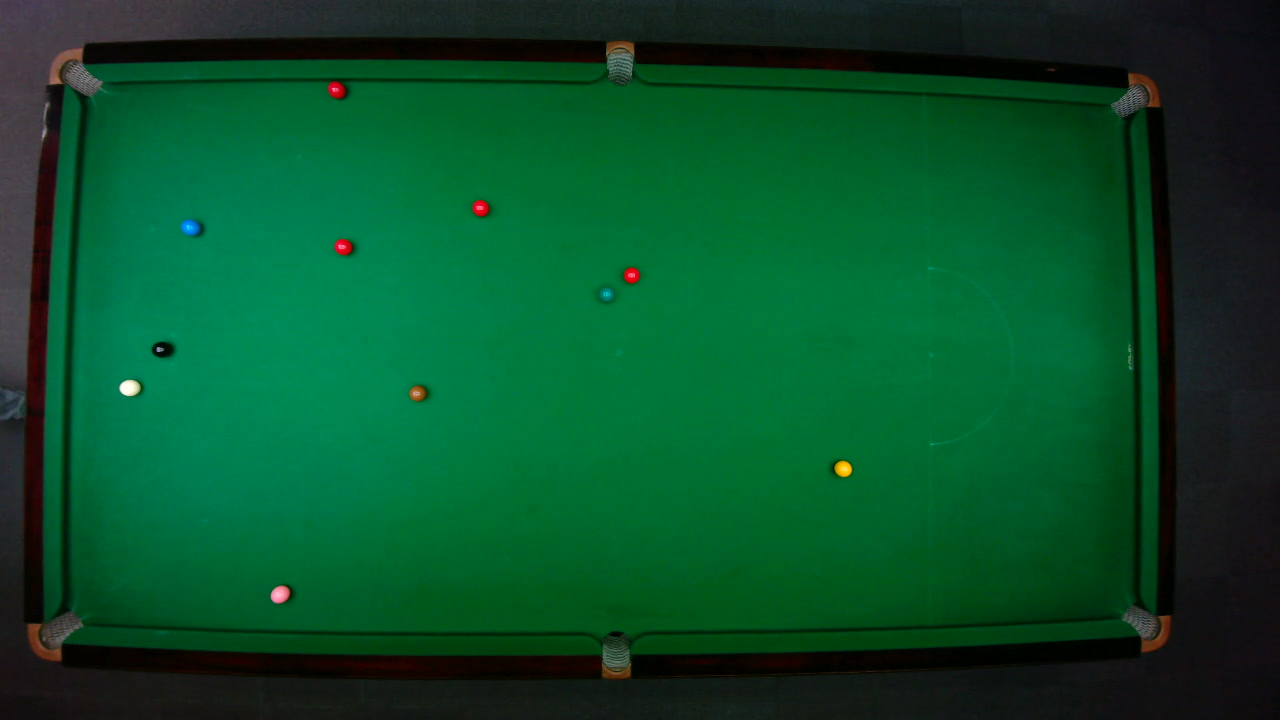bag: (25, 609, 84, 661), (46, 47, 103, 97), (1119, 603, 1171, 652), (1108, 72, 1160, 118), (601, 629, 630, 680), (605, 39, 633, 86)
black: (150, 340, 172, 358)
blue: (179, 217, 201, 236)
brown: (407, 384, 426, 401)
green: (597, 285, 615, 302)
pink: (269, 583, 291, 604)
red: (326, 80, 346, 99), (470, 198, 490, 217), (332, 237, 353, 255), (622, 265, 640, 284)
white: (117, 377, 142, 397)
yellow: (832, 459, 852, 477)
zone: (927, 265, 1013, 445)
